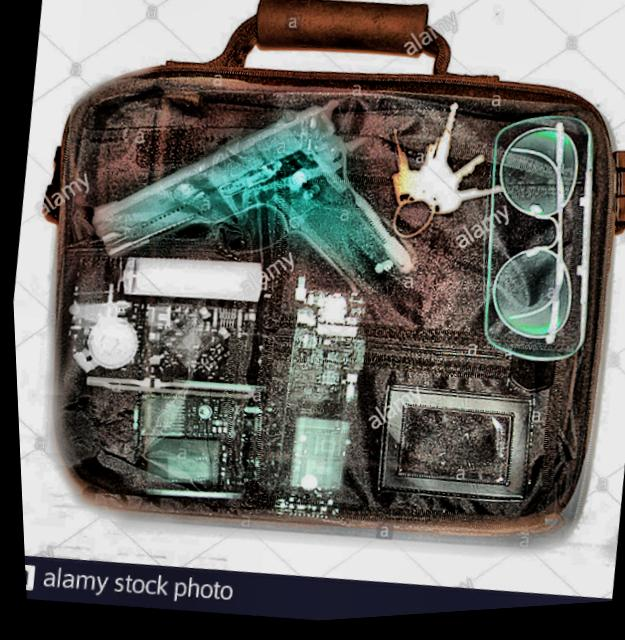pistol: (77, 67, 442, 322)
